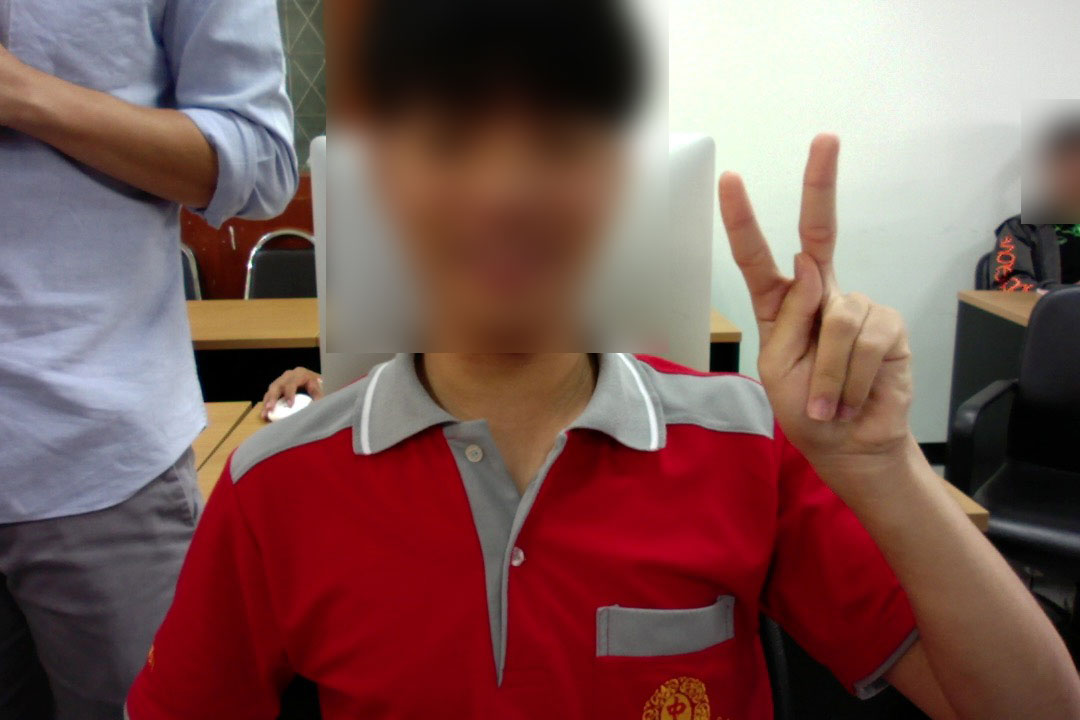ko: (686, 125, 933, 479)
